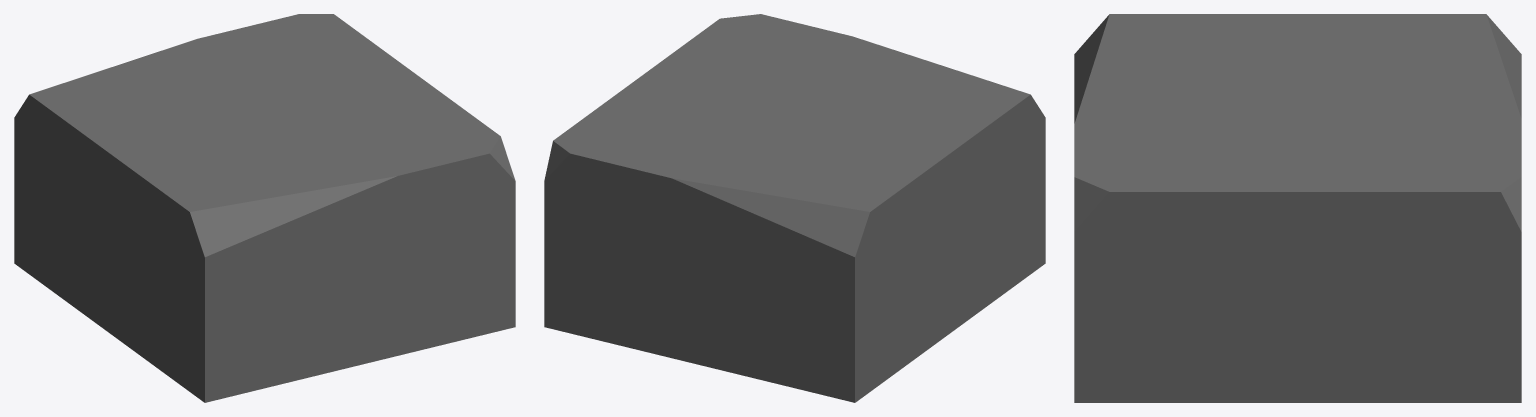
Rendered from Tile_04.fbx.
3 renders of one model, left to right at view 1: azimuth 30°, elevation 25°; view 2: azimuth 150°, elevation 25°; view 3: azimuth 270°, elevation 25°, orthographic. The views are drawn at different scales.
Visible parts, largest first — view 1: Tile_04_LOD0; view 2: Tile_04_LOD0; view 3: Tile_04_LOD0.
Boxes of the visible parts, bbox=[...] form: Tile_04_LOD0: bbox=[14, 14, 515, 402]; Tile_04_LOD0: bbox=[544, 14, 1045, 402]; Tile_04_LOD0: bbox=[1074, 14, 1521, 402].
Size of what is drawn, in the model's own units: 0.2893 by 0.16 by 0.3072.
